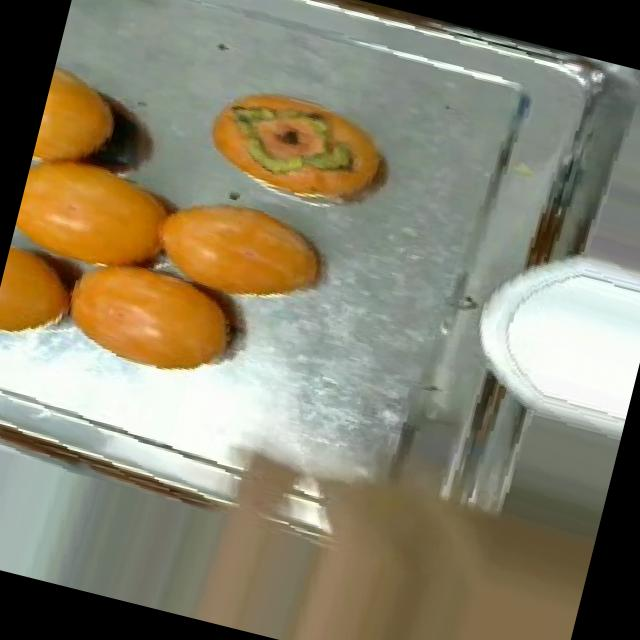Fruit: (34, 241, 266, 401), (186, 62, 382, 215), (29, 54, 141, 186), (0, 233, 96, 361)
